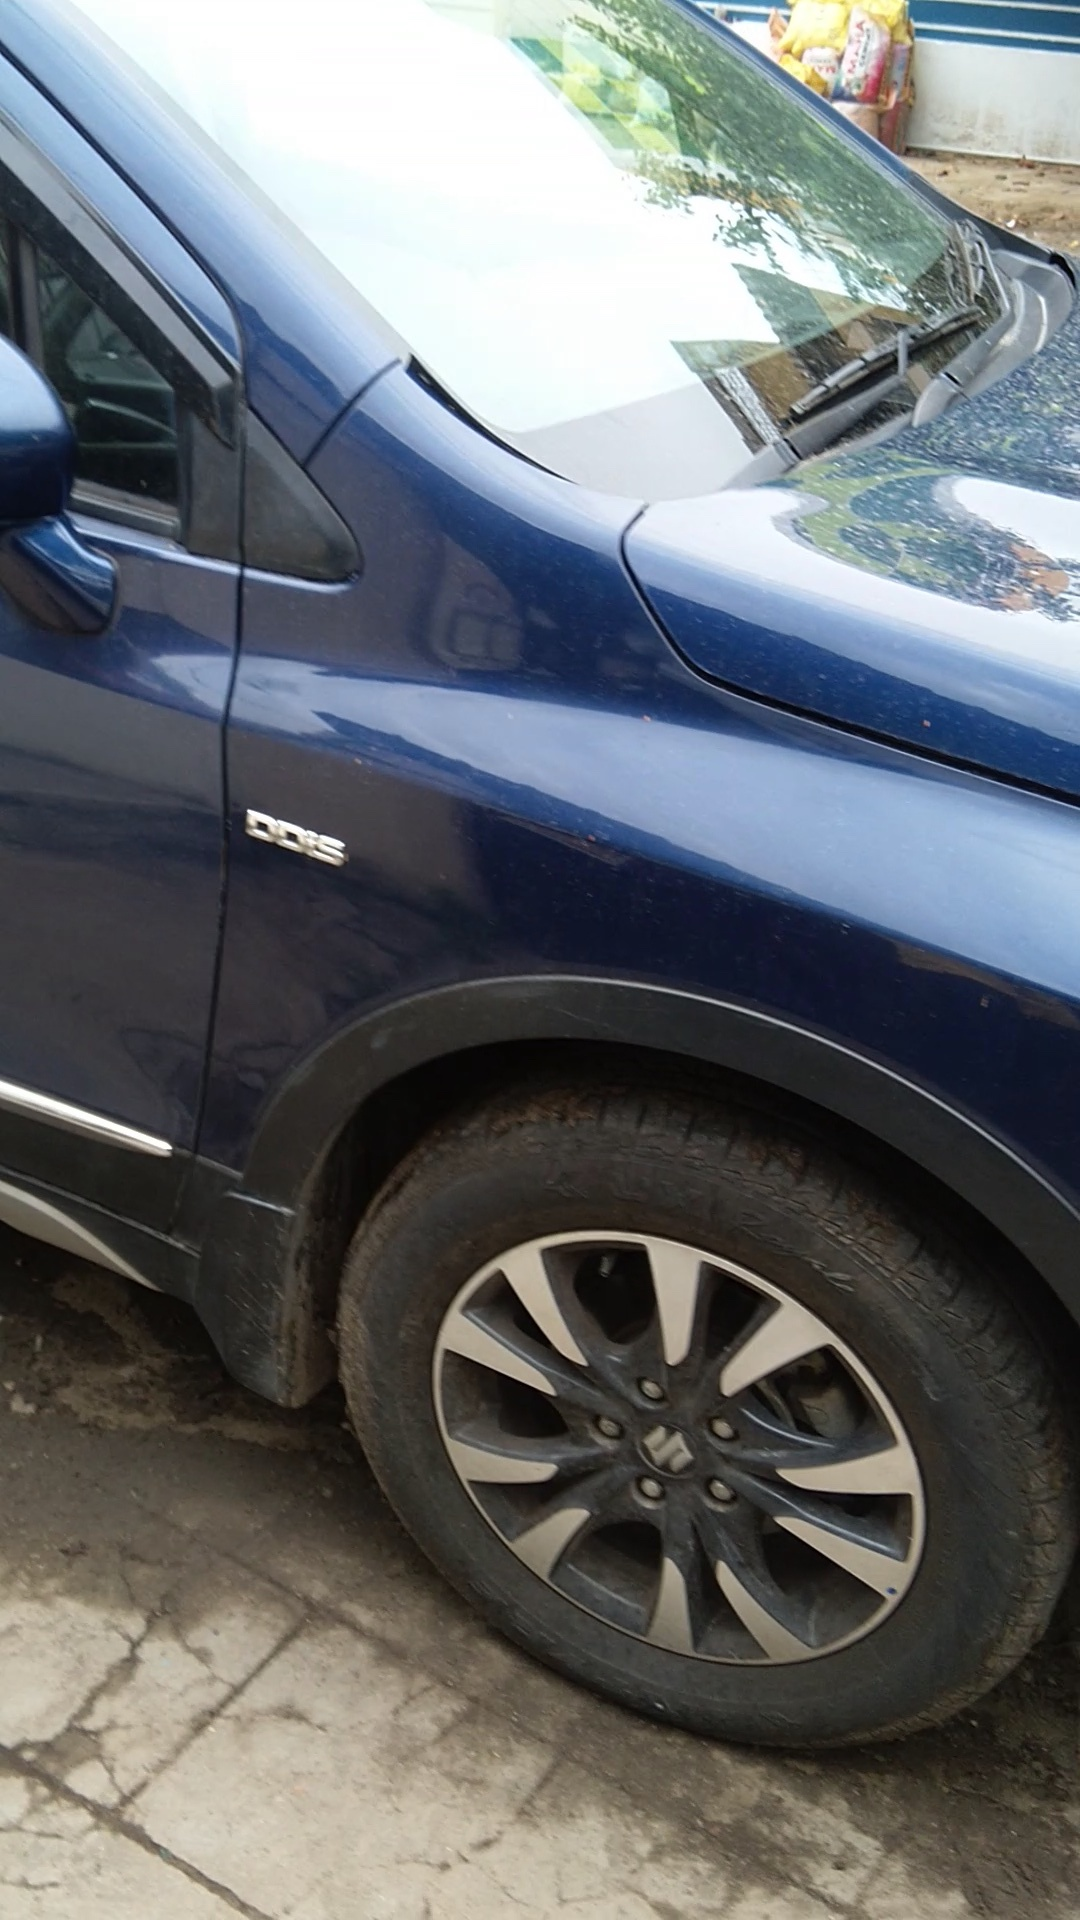alloy_wheel: (345, 1100, 1080, 1797)
